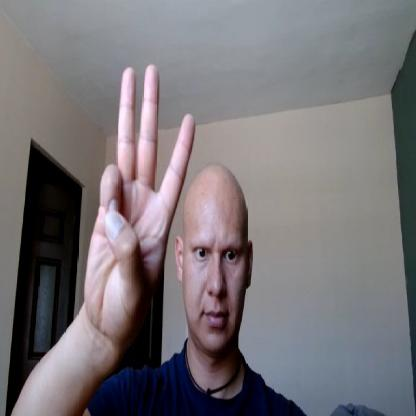W: (82, 61, 198, 332)
